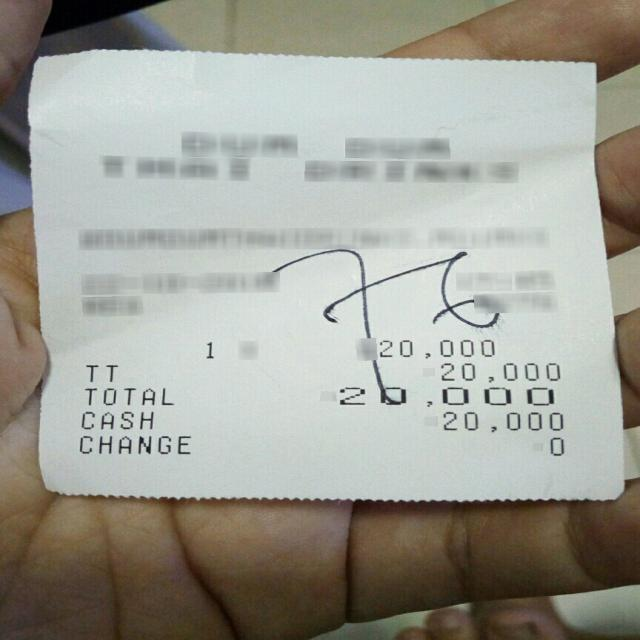kertas: (26, 49, 628, 504)
